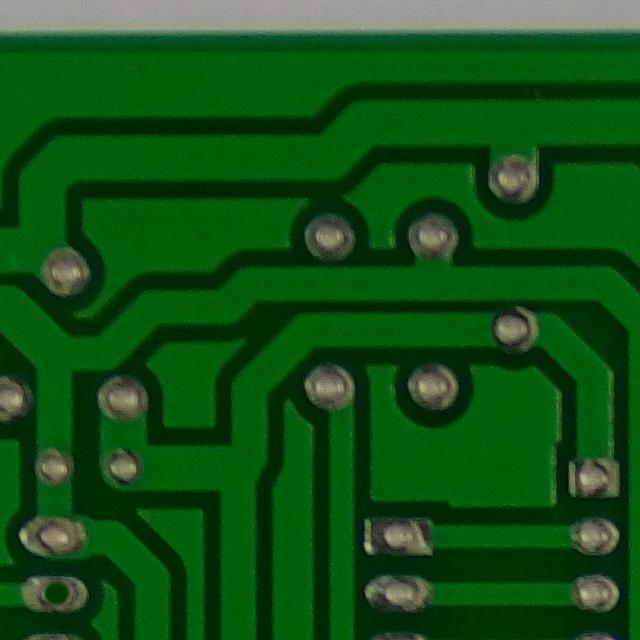missing_hole: (23, 567, 94, 623)
